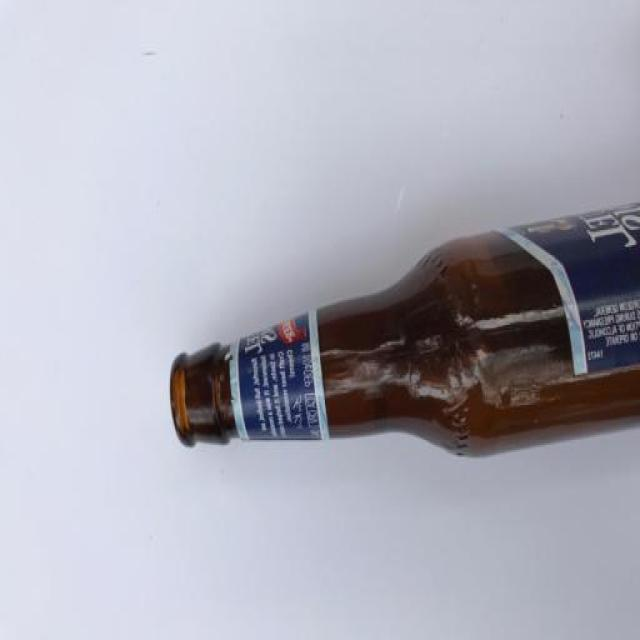glass: (171, 208, 640, 464)
